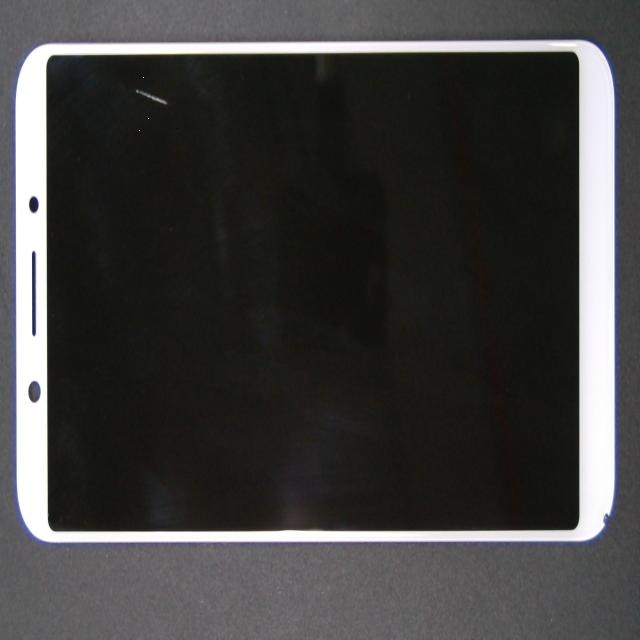scratch: (30, 33, 199, 165)
